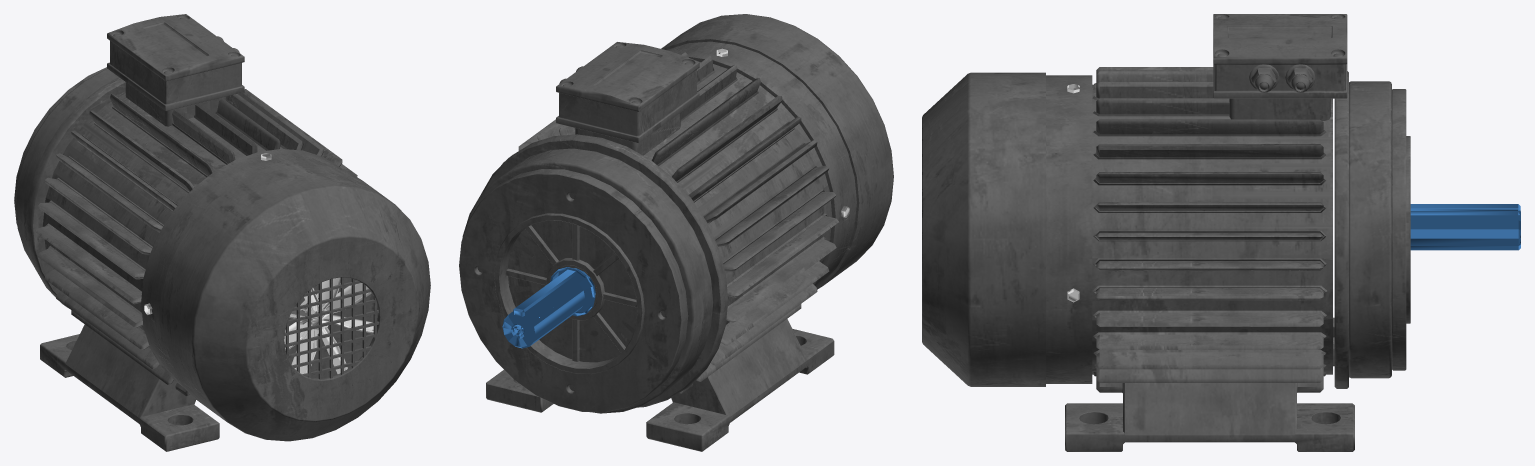
Rendered from electric_motor (1).glb.
3 renders of one model, left to right at view 1: azimuth 30°, elevation 25°; view 2: azimuth 150°, elevation 25°; view 3: azimuth 270°, elevation 25°, orthographic. The views are drawn at different scales.
Visible parts, largest first — view 1: Body, Vent; view 2: Body, Shaft; view 3: Body, Shaft.
Boxes of the visible parts, x1,y1,x2,y2 form: Body: [14, 14, 430, 451]; Vent: [284, 277, 373, 374]; Body: [459, 14, 893, 451]; Shaft: [502, 267, 595, 348]; Body: [922, 14, 1410, 451]; Shaft: [1410, 204, 1520, 250].
Size of the model in its own units: 0.2249 by 0.276 by 0.413.
Materials: 4 (1 with a texture image).
